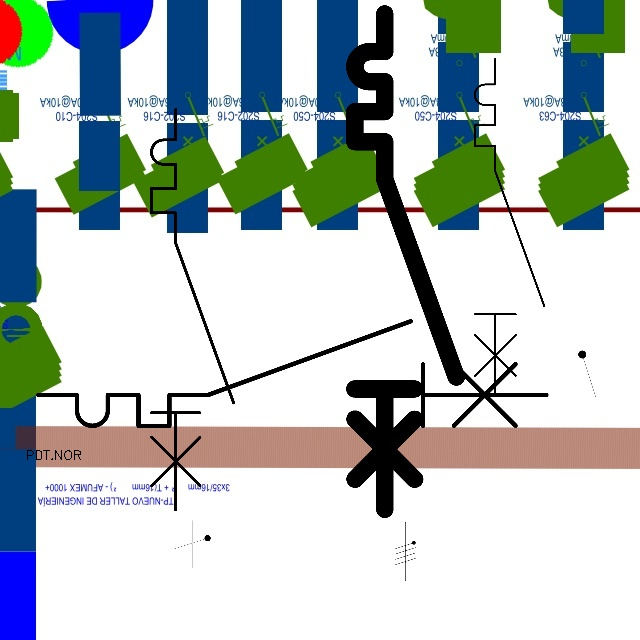interruptor_termomagnetico: (25, 308, 559, 439), (342, 1, 469, 522), (141, 99, 244, 520), (466, 50, 553, 405)
